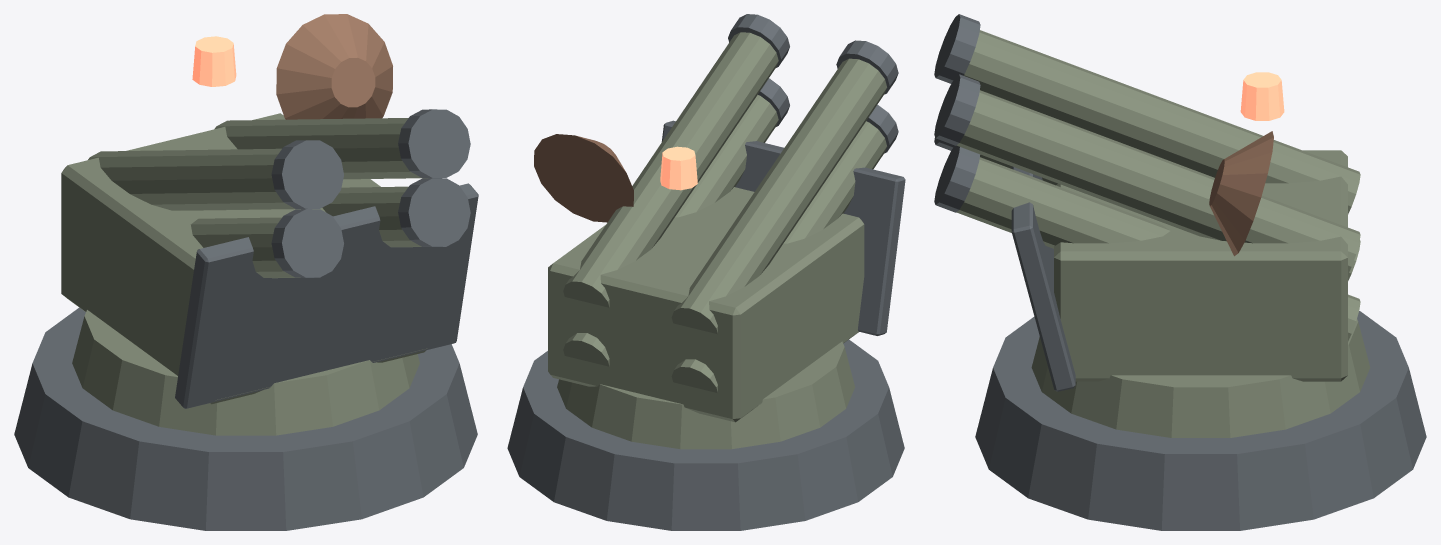
File: ship_aa_battery.glb
3 views of the same model, side by side, from view 1: azimuth 30°, elevation 25°; view 2: azimuth 150°, elevation 25°; view 3: azimuth 270°, elevation 25° (orthographic). The views are drawn at different scales.
Parts seen in each view (by area): view 1: TurretBase, FrontShield, TurretBody, TurretRing, TrackRadar, Tube_-0.52_2.26, Tube_0.52_2.26, Nozzle_0.52_2.26, Nozzle_-0.52_1.72, Nozzle_0.52_1.72, Nozzle_-0.52_2.26, Tube_-0.52_1.72 (+2 smaller); view 2: TurretBody, TurretBase, Tube_-0.52_2.26, Tube_0.52_2.26, TurretRing, FrontShield, TrackRadar, Tube_-0.52_1.72, Tube_0.52_1.72, TargetBeacon, Nozzle_0.52_2.26, Nozzle_-0.52_2.26 (+2 smaller); view 3: TurretBase, TurretBody, Tube_0.52_2.26, Tube_-0.52_2.26, TurretRing, Tube_0.52_1.72, FrontShield, TrackRadar, Nozzle_0.52_2.26, Nozzle_-0.52_2.26, Nozzle_0.52_1.72, TargetBeacon.
Part boxes in pixels (x1,y1,x2,y2): TurretBase: (14,307,477,530); FrontShield: (175,183,478,408); TurretBody: (61,113,427,404); TurretRing: (72,310,419,435); TrackRadar: (276,14,392,119); Tube_-0.52_2.26: (88,148,294,210); Tube_0.52_2.26: (214,118,427,179); Nozzle_0.52_2.26: (398,109,470,178); Nozzle_-0.52_1.72: (271,209,343,277); Nozzle_0.52_1.72: (398,178,470,246); Nozzle_-0.52_2.26: (271,140,343,208); Tube_-0.52_1.72: (190,217,300,278); TurretBody: (548,187,864,422); TurretBase: (507,339,904,530); Tube_-0.52_2.26: (671,58,886,334); Tube_0.52_2.26: (563,32,778,307); TurretRing: (557,341,854,449); FrontShield: (661,120,905,335); TrackRadar: (534,134,633,222); Tube_-0.52_1.72: (671,121,886,392); Tube_0.52_1.72: (563,95,778,366); TargetBeacon: (660,146,697,190); Nozzle_0.52_2.26: (728,14,789,67); Nozzle_-0.52_2.26: (836,40,898,94); TurretBase: (975,311,1426,530); TurretBody: (1054,150,1347,381); Tube_0.52_2.26: (956,90,1360,274); Tube_-0.52_2.26: (963,30,1360,214); TurretRing: (1031,319,1370,437); Tube_0.52_1.72: (956,157,1360,341); FrontShield: (1011,166,1075,391); TrackRadar: (1209,131,1273,256); Nozzle_0.52_2.26: (934,74,980,145); Nozzle_-0.52_2.26: (934,14,980,83); Nozzle_0.52_1.72: (934,145,980,212); TargetBeacon: (1240,72,1284,120).
Size of the model in its own units: 3.25 by 3.14 by 3.6.
